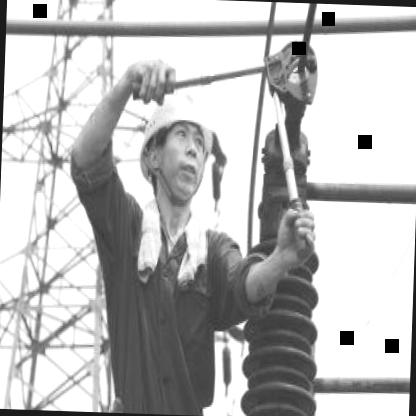helmet: (135, 82, 225, 208)
